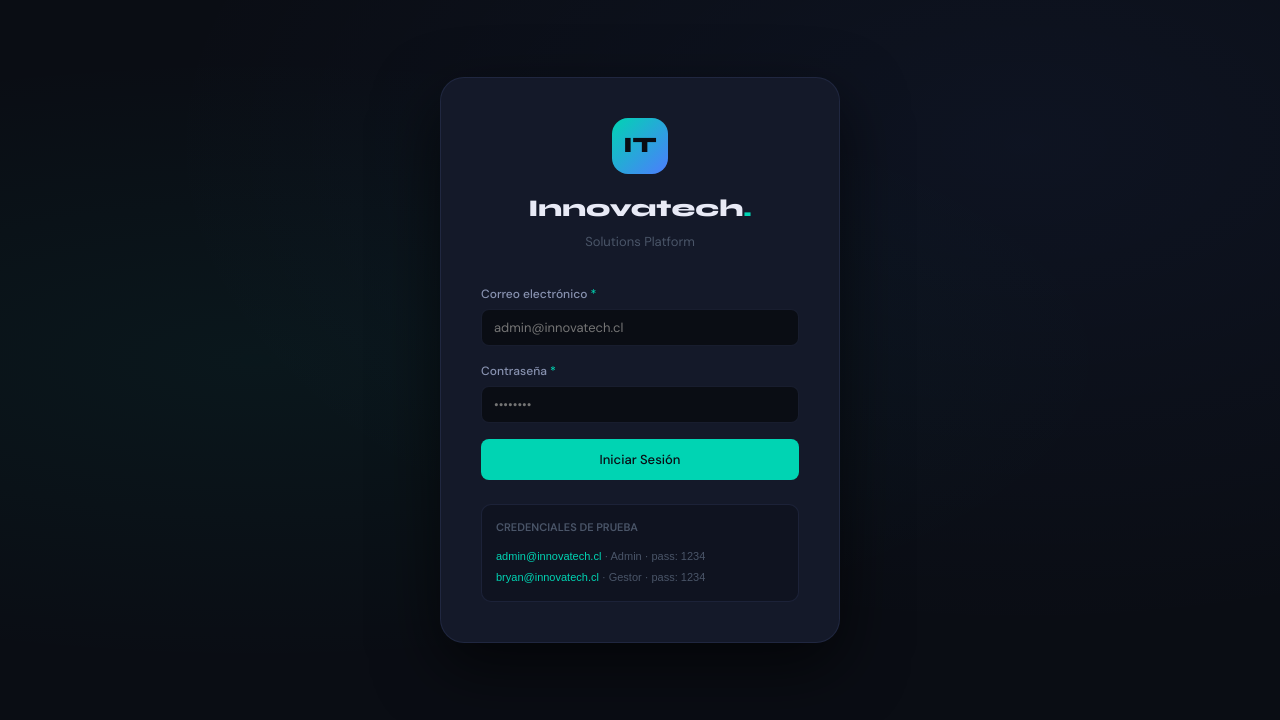
Scenario: LoginPage › autocompleta credenciales de prueba al hacer click
Step 1. Click the text "admin@innovatech.cl" → (549,556), box 496,550 -> 601,562
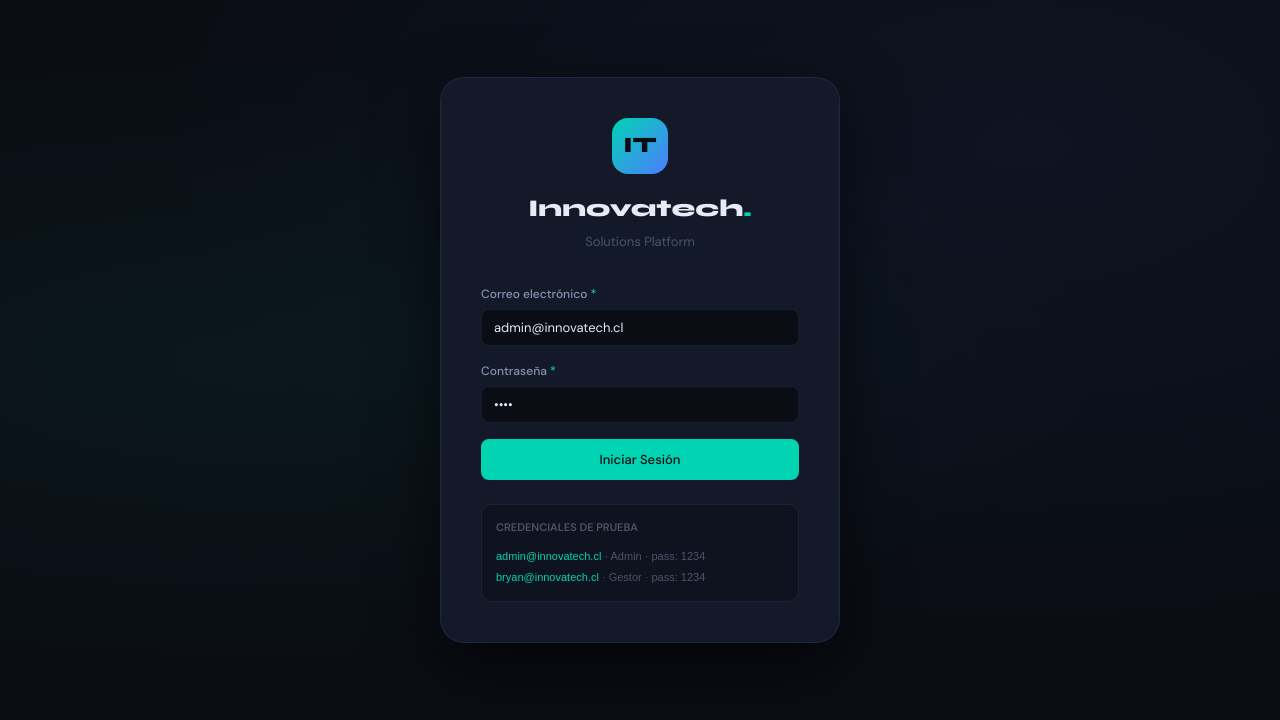
Check: the field with placeholder "admin@innovatech.cl" holds "admin@innovatech.cl", box 481,309 -> 799,346
Check: the password field with placeholder "••••••••" holds "1234", box 481,386 -> 799,424
